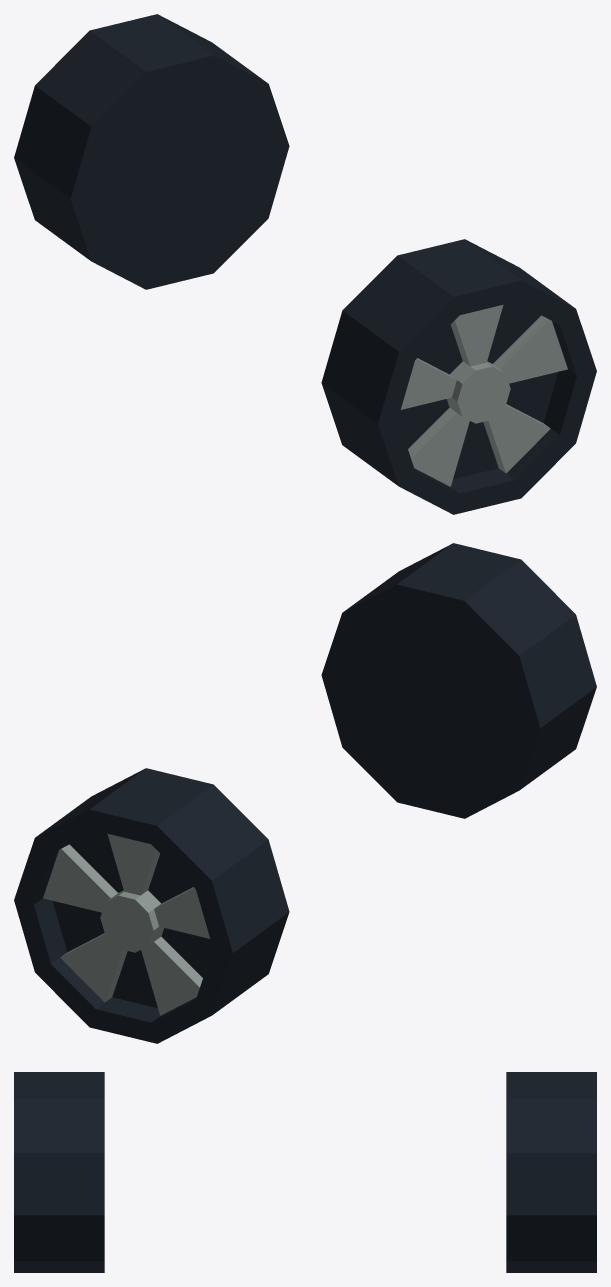
The model's file is RearWheels.glb.
3 renders of one model, top to bottom at view 1: azimuth 30°, elevation 25°; view 2: azimuth 150°, elevation 25°; view 3: azimuth 270°, elevation 25°, orthographic. The views are drawn at different scales.
Parts seen in each view (by area): view 1: Cylinder.069; view 2: Cylinder.069; view 3: Cylinder.069.
Boxes of the visible parts, x1,y1,x2,y2 form: Cylinder.069: (14,14,596,514); Cylinder.069: (14,543,596,1043); Cylinder.069: (14,1072,596,1272).
Bounding box in the file's own units: 0.0271 × 0.0258 × 0.078.
1 material, 1 textured.
